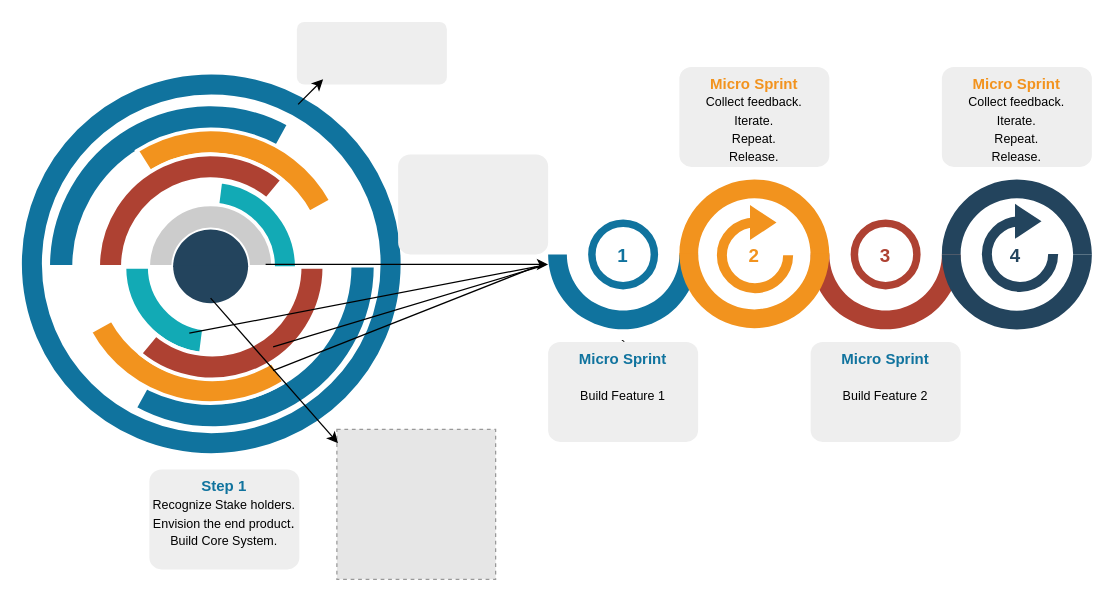
Some shapes in this 1113 by 601 pixel diagram are drawn without their labels. Grey dashed boxes stand in for pictures. Here are the shapes that lost their labels. From the top down, the centre of each, then its label:
At point (371, 52): "Client Centric Flawless End Product".
At point (473, 204): "Micro Sprints Build subsystem in layers. Perfect the Subsystem.".
At point (210, 265): "Core System".
